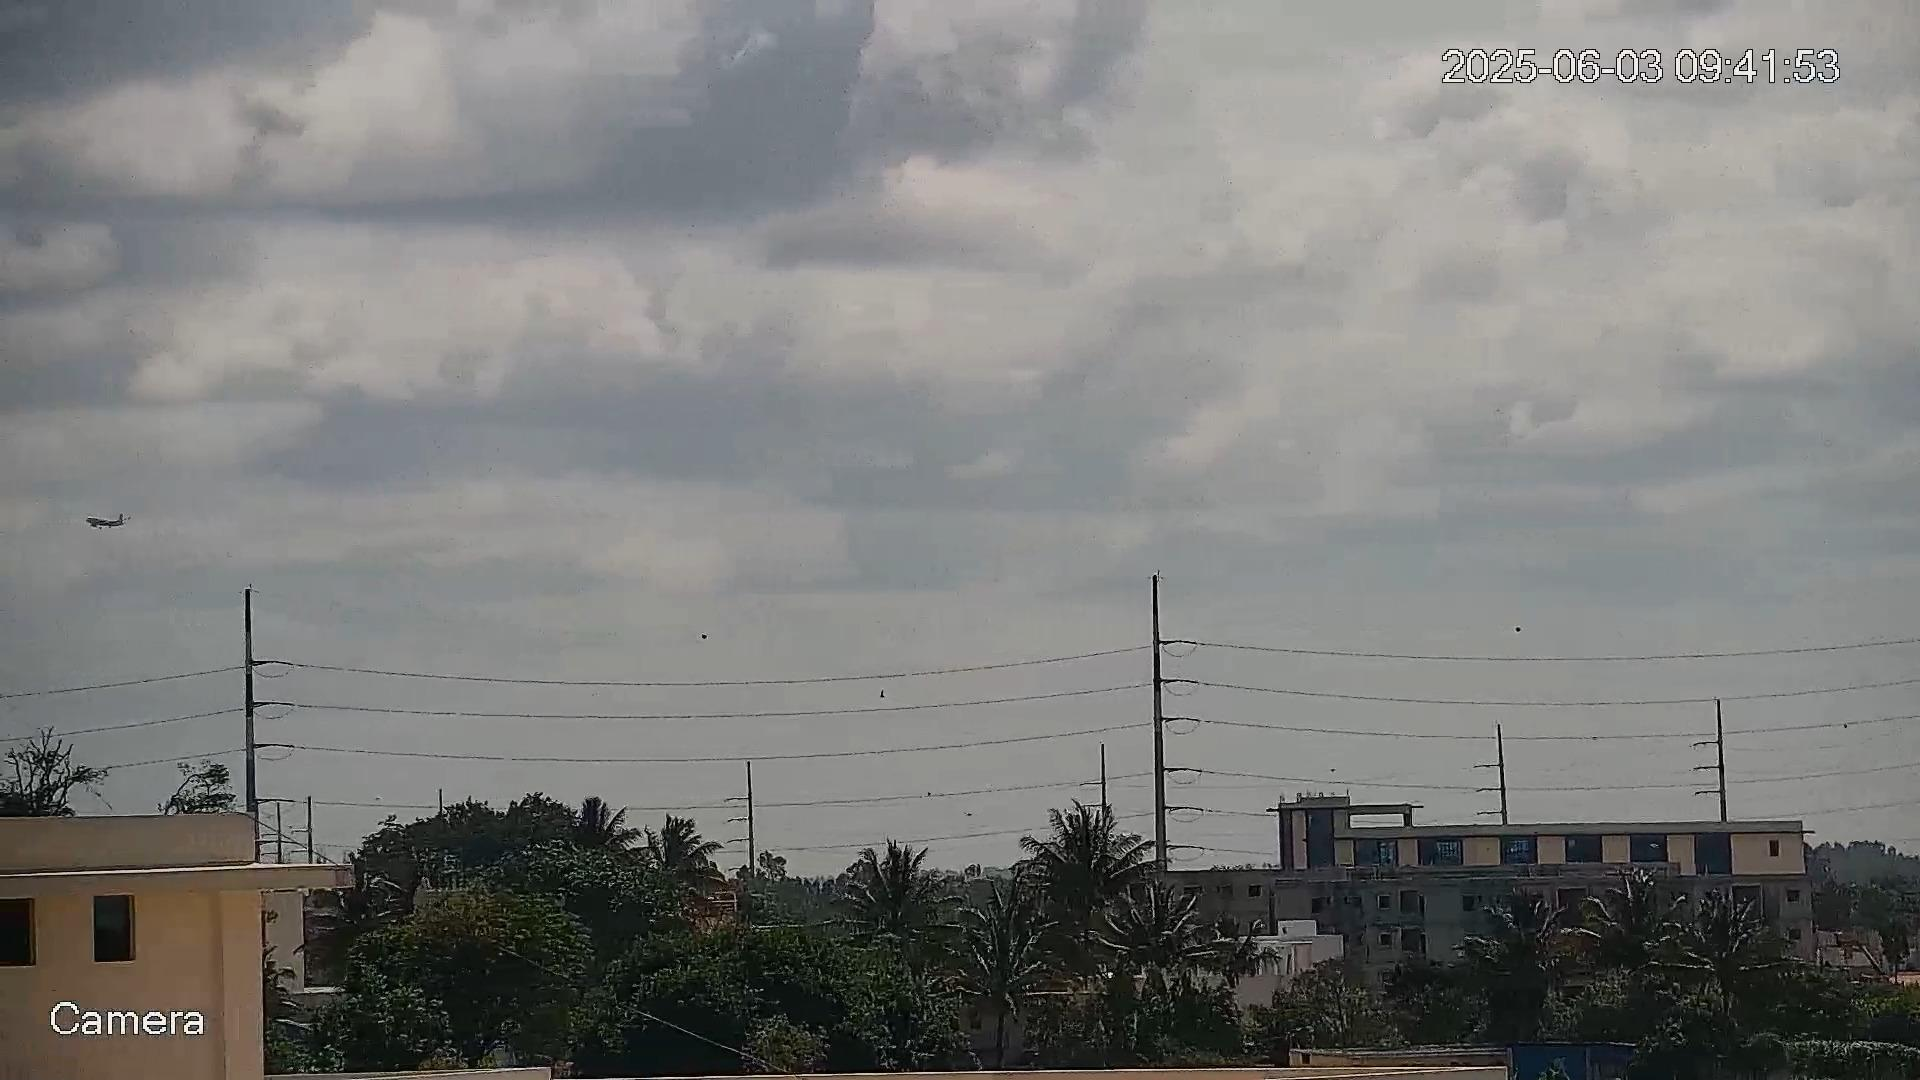Aircraft: (84, 514, 131, 530)
